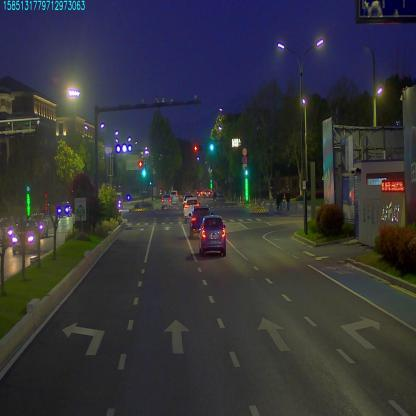traffic-light: (208, 138, 216, 150), (194, 144, 200, 153)
